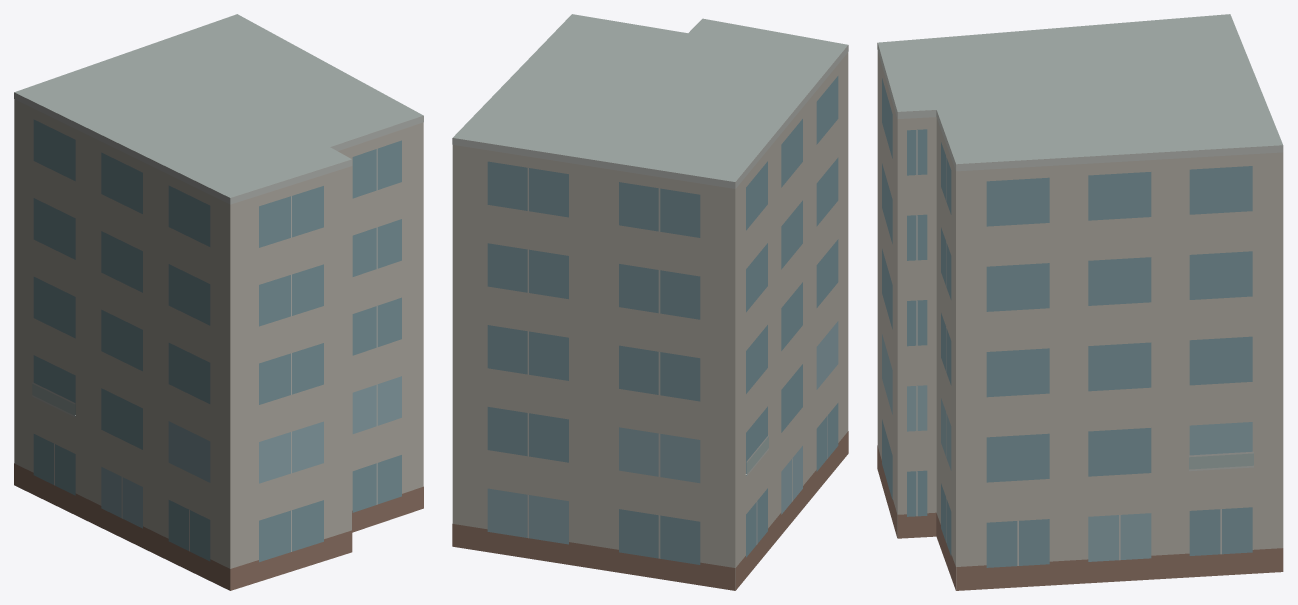
Rendered from survey-upis-32704505.glb.
3 renders of one model, left to right at view 1: azimuth 30°, elevation 25°; view 2: azimuth 150°, elevation 25°; view 3: azimuth 270°, elevation 25°, orthographic. The views are drawn at different scales.
Visible parts, largest first — view 1: survey-upis-32704505.tmp; view 2: survey-upis-32704505.tmp; view 3: survey-upis-32704505.tmp.
Boxes of the visible parts, x1,y1,x2,y2 form: survey-upis-32704505.tmp: (14,14,423,590); survey-upis-32704505.tmp: (452,14,848,590); survey-upis-32704505.tmp: (877,14,1283,590).
Bounding box in the file's own units: 10.88 × 14.4 × 12.42.
